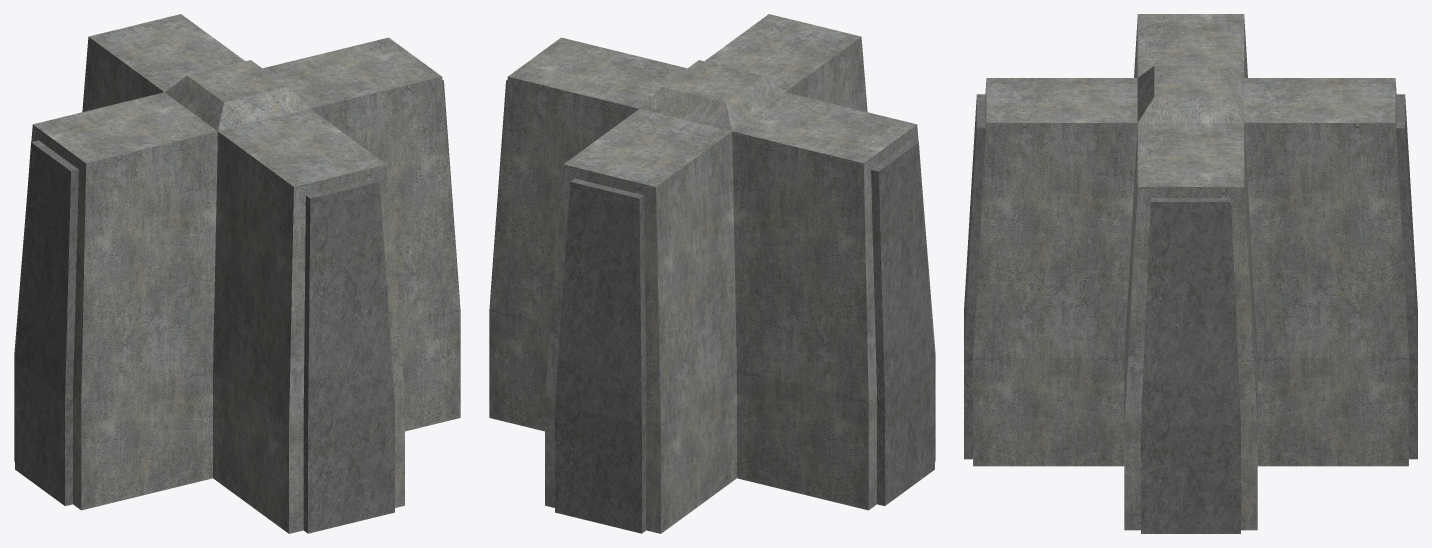
The model's file is mun_all_military_column_huge_impl_s01_l0.fbx.
3 views of the same model, side by side, from view 1: azimuth 30°, elevation 25°; view 2: azimuth 150°, elevation 25°; view 3: azimuth 270°, elevation 25° (orthographic).
Visible parts, largest first — view 1: mesh_node; view 2: mesh_node; view 3: mesh_node.
Part boxes in pixels (x1,y1,x2,y2): mesh_node: [14, 14, 460, 533]; mesh_node: [489, 14, 935, 533]; mesh_node: [964, 14, 1417, 533].
Size of the model in its own units: 8.53 by 7.4 by 8.53.
